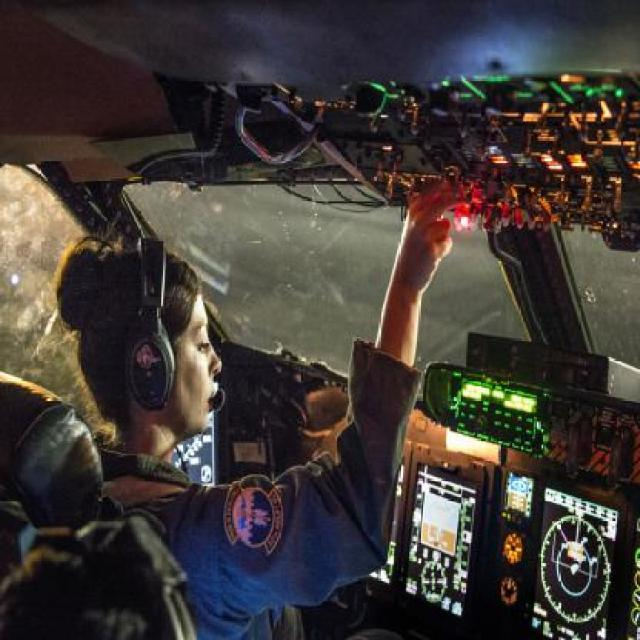earphone: (133, 215, 182, 407)
